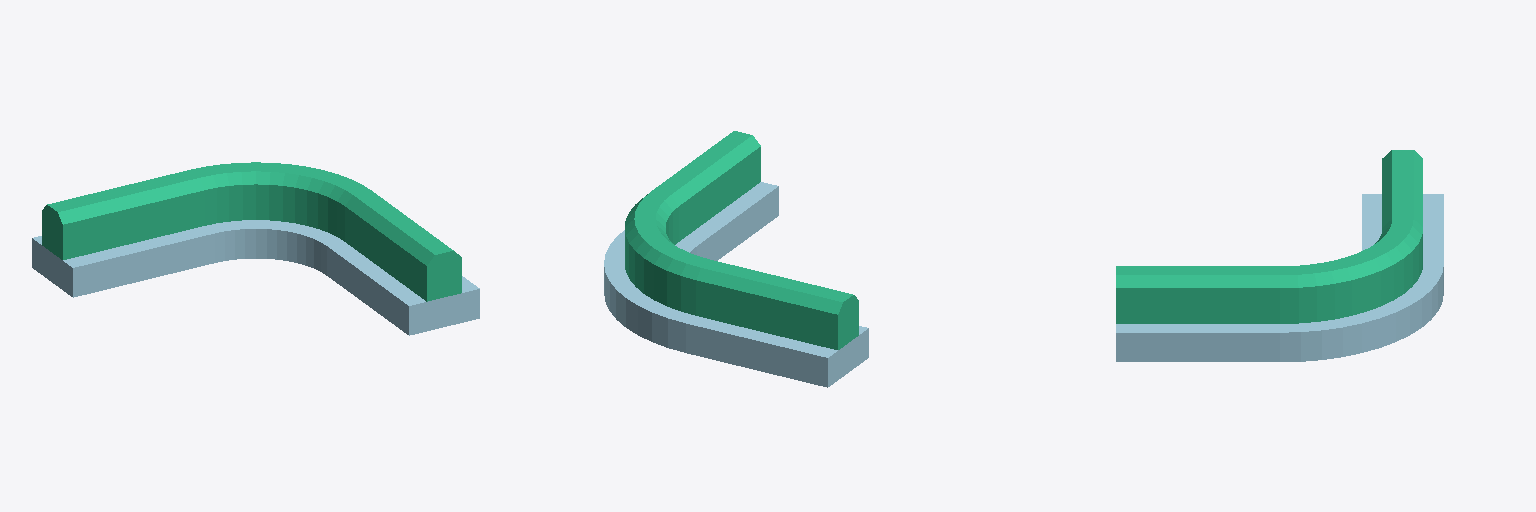
File: hedgeCurved.obj
The picture shows the model from 3 angles: view 1: azimuth 30°, elevation 25°; view 2: azimuth 150°, elevation 25°; view 3: azimuth 270°, elevation 25°; orthographic projection.
Parts seen in each view (by area): view 1: hedgeCurved; view 2: hedgeCurved; view 3: hedgeCurved.
Part boxes in pixels (left/top/right/bottom): hedgeCurved: left=32, top=162, right=479, bottom=335; hedgeCurved: left=604, top=131, right=868, bottom=387; hedgeCurved: left=1116, top=150, right=1443, bottom=361.
Bounding box in the file's own units: 1 × 0.25 × 1.